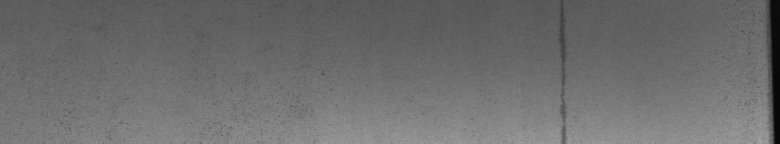hd: (556, 4, 576, 136)
